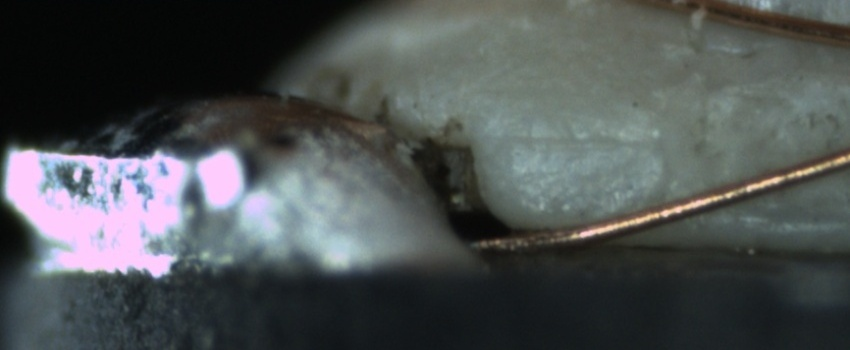DL: (503, 111, 659, 170)
